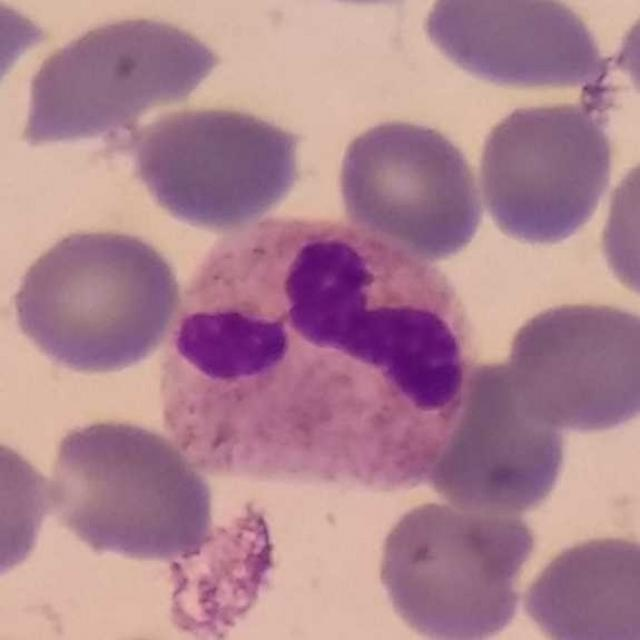Neutrophil: (148, 203, 489, 502)
RBC: (19, 8, 226, 147), (6, 220, 184, 378), (40, 412, 219, 564), (371, 492, 538, 640), (129, 99, 307, 233), (423, 359, 573, 518), (332, 111, 488, 262), (472, 95, 618, 249), (503, 294, 639, 436), (417, 0, 611, 95), (516, 526, 639, 640), (0, 427, 57, 589), (594, 146, 640, 310), (0, 0, 52, 110), (612, 0, 640, 115)
